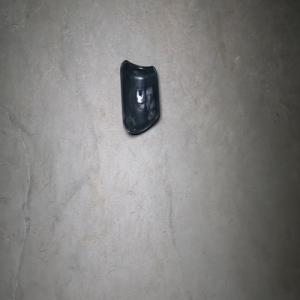LuggagePart: (119, 58, 160, 136)
